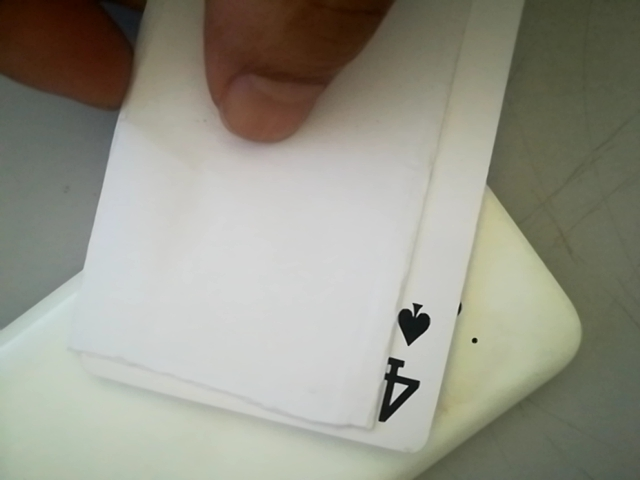ht 4: (358, 285, 445, 438)
